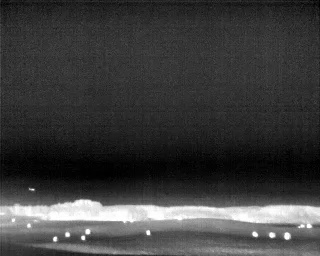AIRPLANE: (26, 184, 37, 194)
